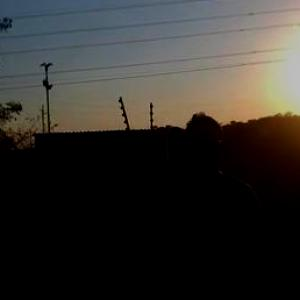follow: (156, 107, 272, 299)
